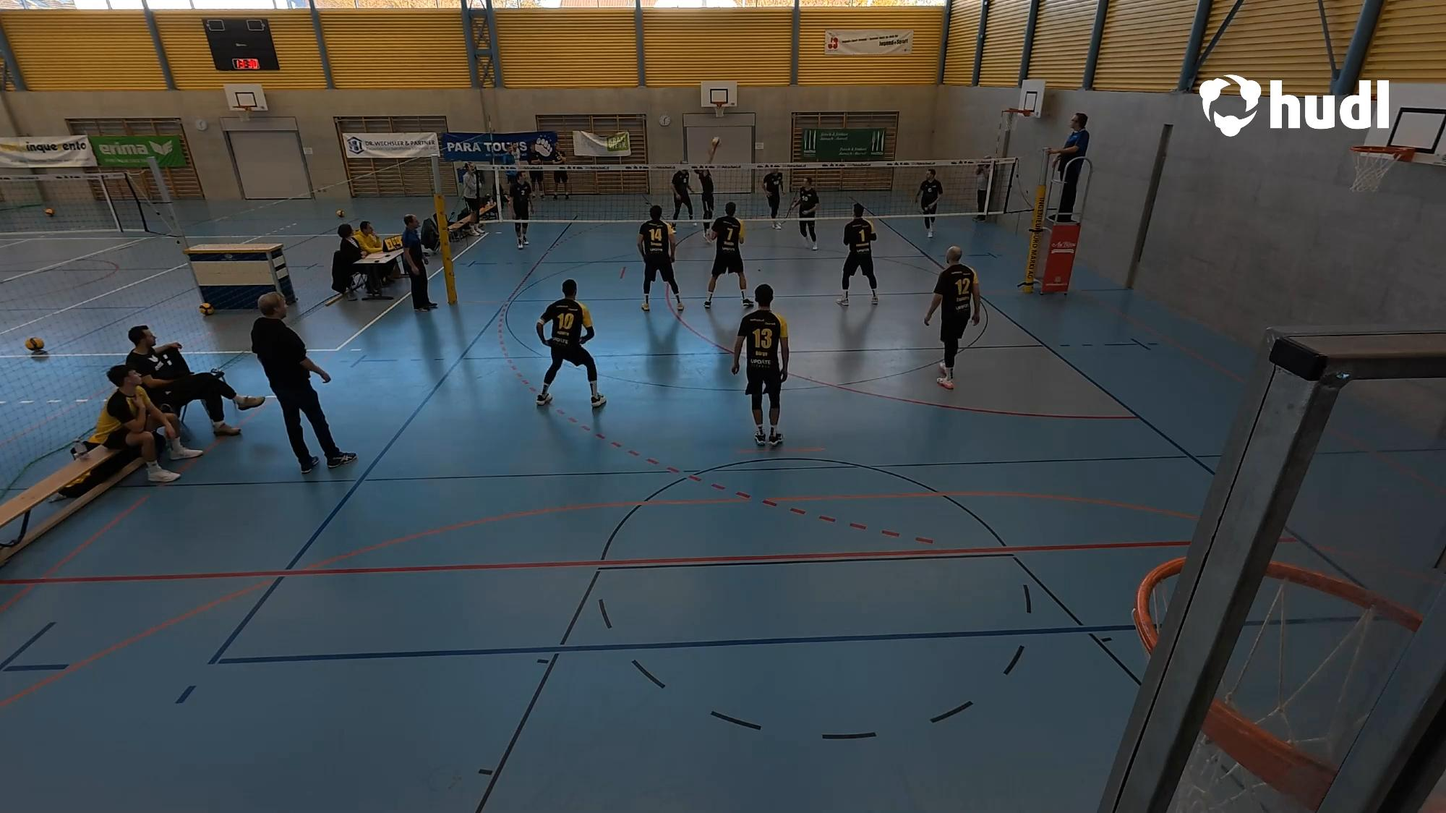Player: (731, 285, 790, 448), (535, 278, 607, 409), (923, 247, 980, 389), (837, 205, 883, 306), (706, 205, 749, 311), (638, 211, 681, 312), (795, 173, 823, 250), (916, 168, 942, 247), (508, 172, 534, 251), (668, 161, 695, 226), (762, 163, 786, 225)
Set: (694, 132, 722, 244)
ball: (711, 134, 722, 150)
